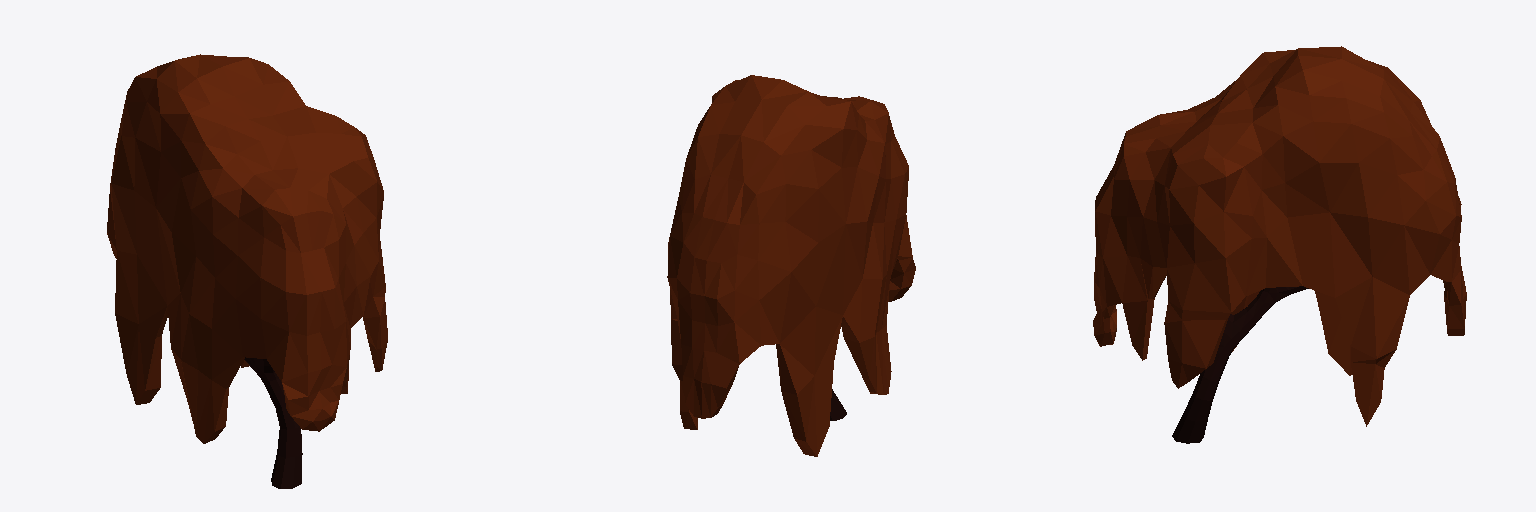
The model's file is Willow_Autumn_1_Cube.obj.
3 renders of one model, left to right at view 1: azimuth 30°, elevation 25°; view 2: azimuth 150°, elevation 25°; view 3: azimuth 270°, elevation 25°, orthographic.
Visible parts, largest first — view 1: Willow_Autumn_1_Cube.088; view 2: Willow_Autumn_1_Cube.088; view 3: Willow_Autumn_1_Cube.088.
Boxes of the visible parts, box(x1,y1,x2,y2) form: Willow_Autumn_1_Cube.088: box(107, 54, 387, 488); Willow_Autumn_1_Cube.088: box(667, 75, 915, 456); Willow_Autumn_1_Cube.088: box(1093, 46, 1466, 443).
Size of the model in its own units: 1.45 by 2.85 by 2.55.